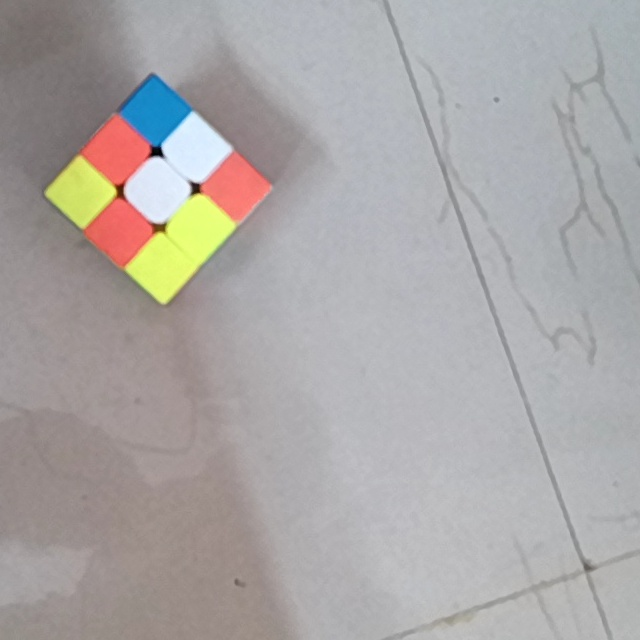tile: (137, 171, 176, 211), (100, 213, 139, 253), (180, 209, 220, 245), (175, 134, 214, 170), (98, 134, 134, 171), (63, 175, 98, 212), (142, 252, 180, 284), (138, 96, 171, 130), (221, 173, 253, 205)
